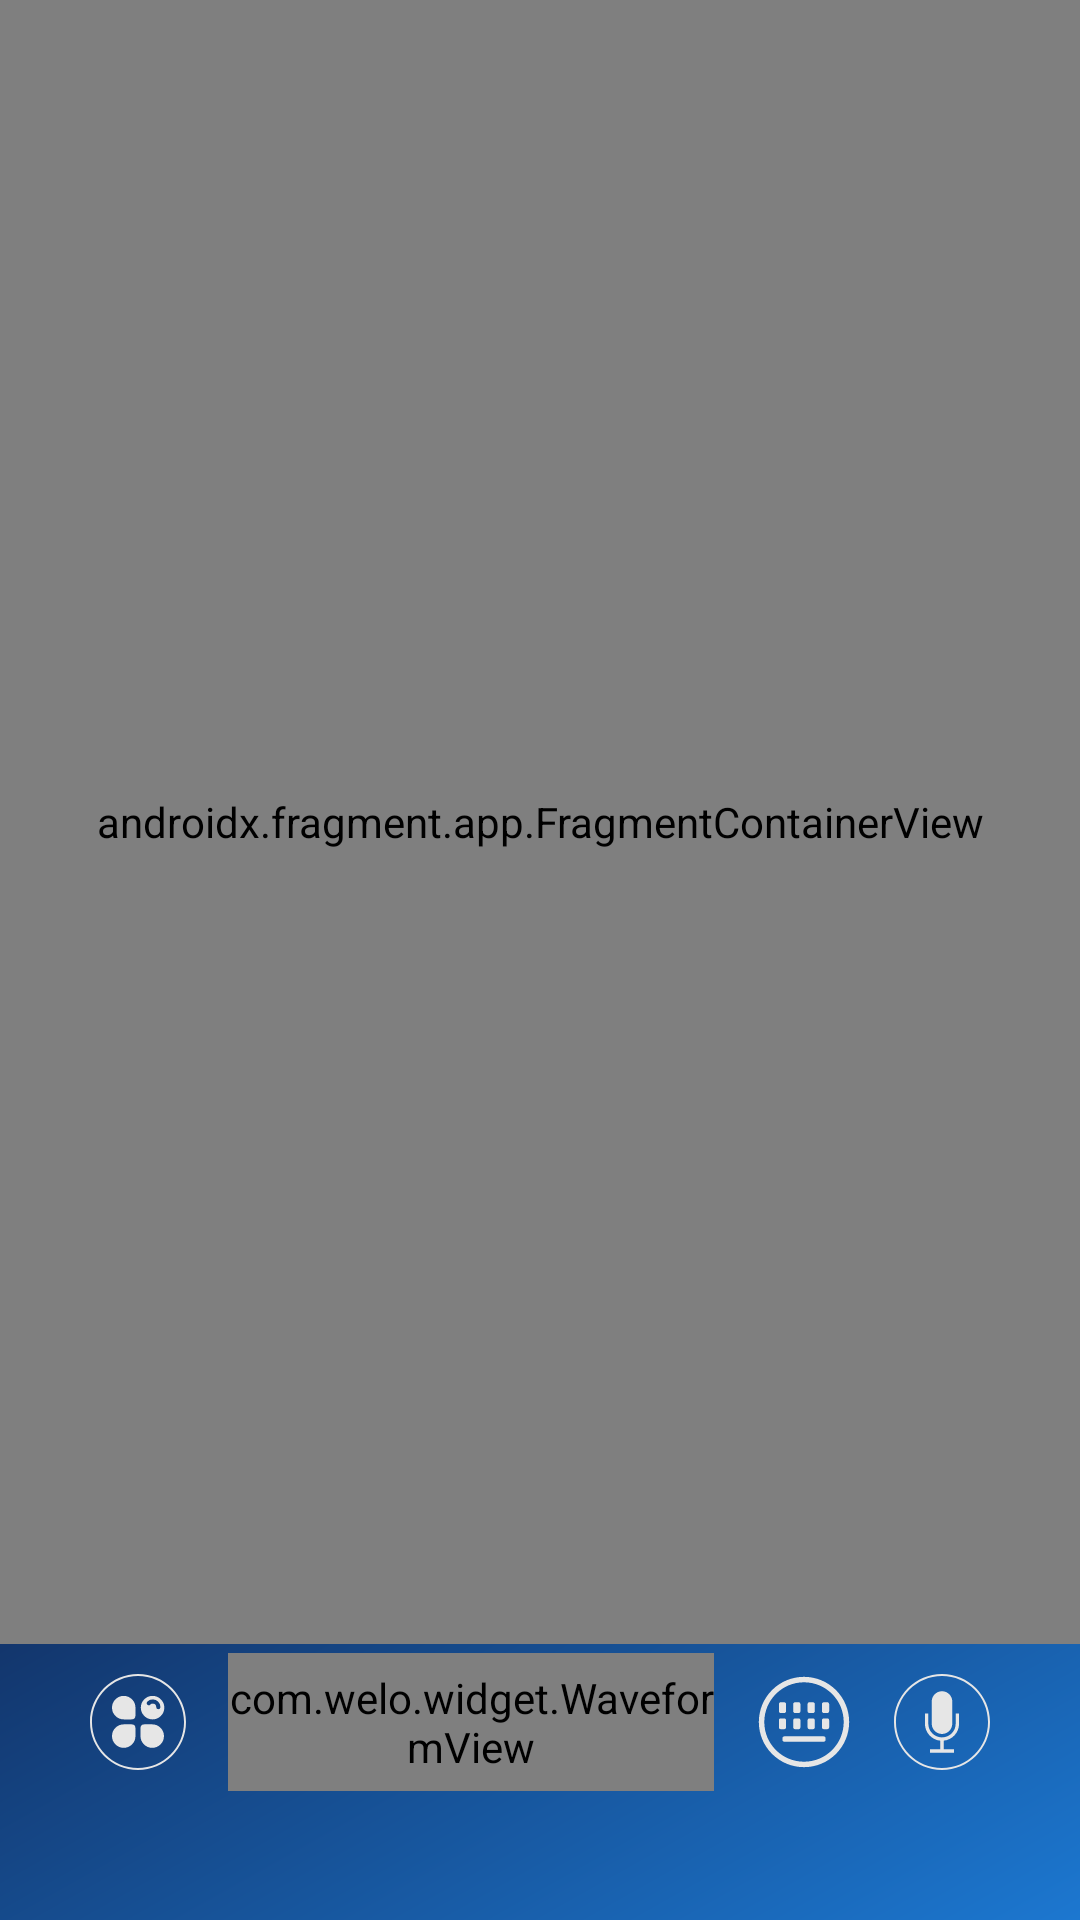

Icons on this 1080w x 1920h Android screen, each with the point to tap as [x,y]:
key bord: [804,1722]
microphone: [942,1722]
multifunctional: [138,1722]
